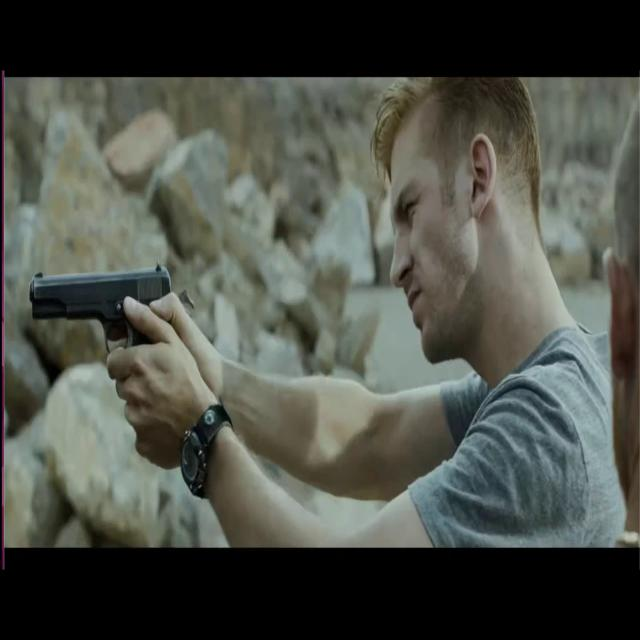weapons: (22, 246, 199, 395)
